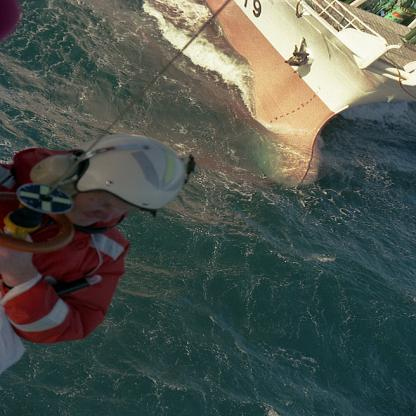Helmet: (9, 137, 192, 242)
